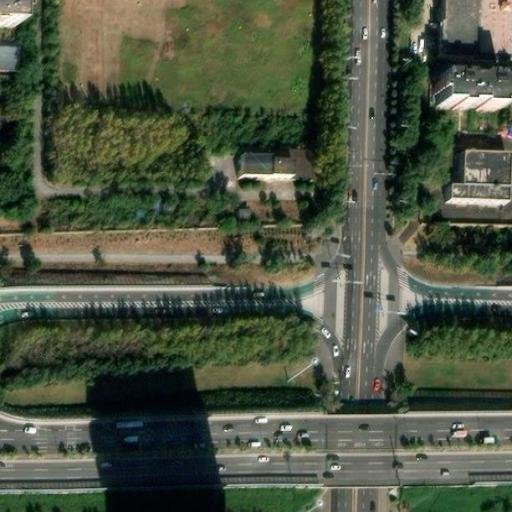building: (446, 153, 508, 204), (435, 79, 506, 113), (443, 0, 479, 53), (242, 149, 297, 174), (0, 45, 21, 70), (233, 203, 251, 219)
